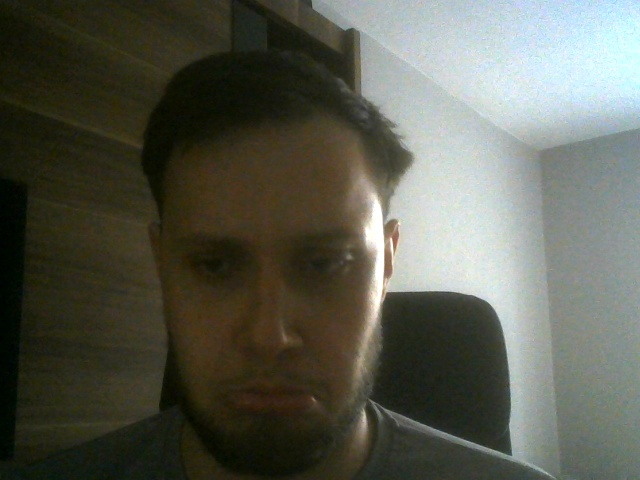neutral: (146, 51, 401, 478)
